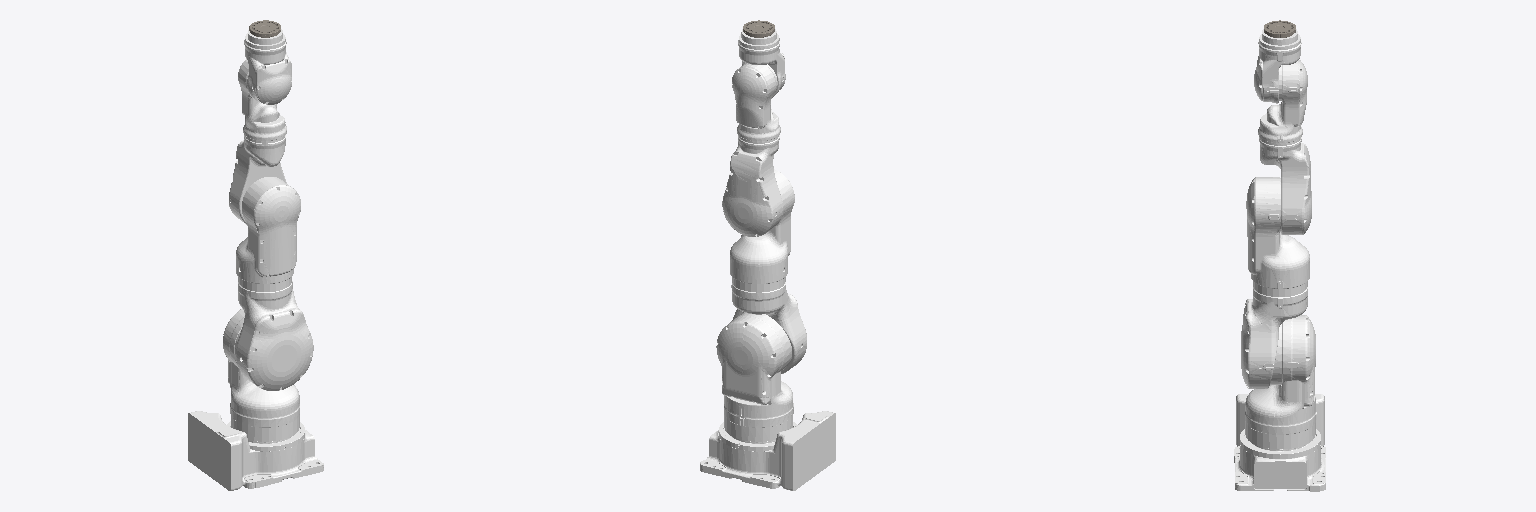
URDF robot description (sia20f):
<?xml version="1.0"?>
<robot name="sia20f">
  <link name="base_link">
    <inertial>
      <origin xyz="-0.05327 0.066798 0.00014271" rpy="0 0 0" />
      <mass value="9.5604" />
      <inertia
        ixx="0"
        ixy="0"
        ixz="0"
        iyy="0"
        iyz="0"
        izz="0" />
    </inertial>
    <visual>
      <origin xyz="0 0 0" rpy="0 0 0" />
      <geometry>
        <mesh filename="package://sia20f/meshes/base_link.STL" />
      </geometry>
      <material name="">
        <color rgba="1 1 1 1" />
      </material>
    </visual>
    <collision>
      <origin xyz="0 0 0" rpy="0 0 0" />
      <geometry>
        <mesh filename="package://sia20f/meshes/base_link.STL" />
      </geometry>
    </collision>
  </link>
  <link name="link_s">
    <inertial>
      <origin xyz="7.8023E-07 0.18911 -0.015611" rpy="0 0 0" />
      <mass value="11.757" />
      <inertia
        ixx="0"
        ixy="0"
        ixz="0"
        iyy="0"
        iyz="0"
        izz="0" />
    </inertial>
    <visual>
      <origin xyz="0 0 0" rpy="0 0 0" />
      <geometry>
        <mesh
          filename="package://sia20f/meshes/link_s.STL" />
      </geometry>
      <material name="">
        <color rgba="1 1 1 1" />
      </material>
    </visual>
    <collision>
      <origin xyz="0 0 0" rpy="0 0 0" />
      <geometry>
        <mesh filename="package://sia20f/meshes/link_s.STL" />
      </geometry>
    </collision>
  </link>
  <joint name="joint_s" type="revolute">
    <origin xyz="0 0 0.112" rpy="1.5708 0 0" />
    <parent link="base_link" />
    <child link="link_s" />
    <axis xyz="0 1 0" />
    <limit lower="-3.1415" upper="3.1415" effort="100" velocity="3.1415" />
    <calibration rising="0" falling="0" />
    <dynamics damping="0" friction="0" />
    <safety_controller soft_upper="0" soft_lower="0" k_position="0" k_velocity="0" />
  </joint>
  <link name="link_l">
    <inertial>
      <origin xyz="1.6057E-05 0.10201 0.041335" rpy="0 0 0" />
      <mass value="6.5581" />
      <inertia
        ixx="0"
        ixy="0"
        ixz="0"
        iyy="0"
        iyz="0"
        izz="0" />
    </inertial>
    <visual>
      <origin xyz="0 0 0" rpy="0 0 0" />
      <geometry>
        <mesh filename="package://sia20f/meshes/link_l.STL" />
      </geometry>
      <material name="">
        <color rgba="1 1 1 1" />
      </material>
    </visual>
    <collision>
      <origin xyz="0 0 0" rpy="0 0 0" />
      <geometry>
        <mesh filename="package://sia20f/meshes/link_l.STL" />
      </geometry>
    </collision>
  </link>
  <joint name="joint_l"
    type="revolute">
    <origin xyz="0 0.298 0" rpy="0 0 0" />
    <parent link="link_s" />
    <child link="link_l" />
    <axis xyz="0 0 1" />
    <limit lower="-1.9198" upper="1.19198" effort="100" velocity="3.1415" />
    <calibration rising="0" falling="0" />
    <dynamics damping="0" friction="0" />
    <safety_controller soft_upper="0" soft_lower="0" k_position="0" k_velocity="0" />
  </joint>
  <link
    name="link_e">
    <inertial>
      <origin xyz="3.9186E-05 0.16471 0.020774" rpy="0 0 0" />
      <mass value="6.2419" />
      <inertia
        ixx="0"
        ixy="0"
        ixz="0"
        iyy="0"
        iyz="0"
        izz="0" />
    </inertial>
    <visual>
      <origin xyz="0 0 0" rpy="0 0 0" />
      <geometry>
        <mesh filename="package://sia20f/meshes/link_e.STL" />
      </geometry>
      <material name="">
        <color rgba="1 1 1 1" />
      </material>
    </visual>
    <collision>
      <origin xyz="0 0 0" rpy="0 0 0" />
      <geometry>
        <mesh filename="package://sia20f/meshes/link_e.STL" />
      </geometry>
    </collision>
  </link>
  <joint
    name="joint_e"
    type="revolute">
    <origin xyz="0 0.247135547651375 0" rpy="0 0 0" />
    <parent link="link_l" />
    <child link="link_e" />
    <axis xyz="0 1 0" />
    <limit lower="-2.9670" upper="2.9670" effort="100" velocity="3.1415" />
    <calibration rising="0" falling="0" />
    <dynamics damping="0" friction="0" />
    <safety_controller soft_upper="0" soft_lower="0" k_position="0" k_velocity="0" />
  </joint>
  <link name="link_u">
    <inertial>
      <origin xyz="-7.9992E-07 0.08472 -0.032542" rpy="0 0 0" />
      <mass value="4.4611" />
      <inertia
        ixx="0"
        ixy="0"
        ixz="0"
        iyy="0"
        iyz="0"
        izz="0" />
    </inertial>
    <visual>
      <origin xyz="0 0 0" rpy="0 0 0" />
      <geometry>
        <mesh filename="package://sia20f/meshes/link_u.STL" />
      </geometry>
      <material name="">
        <color rgba="1 1 1 1" />
      </material>
    </visual>
    <collision>
      <origin xyz="0 0 0" rpy="0 0 0" />
      <geometry>
        <mesh filename="package://sia20f/meshes/link_u.STL" />
      </geometry>
    </collision>
  </link>
  <joint name="joint_u" type="revolute">
    <origin xyz="0 0.242864452348634 0" rpy="0 0 0" />
    <parent link="link_e" />
    <child link="link_u" />
    <axis xyz="0 0 1" />
    <limit lower="-2.9670" upper="2.9670" effort="100" velocity="3.1415" />
    <calibration rising="0" falling="0" />
    <dynamics damping="0" friction="0" />
    <safety_controller soft_upper="0" soft_lower="0" k_position="0" k_velocity="0" />
  </joint>
  <link
    name="link_r">
    <inertial>
      <origin xyz="4.8678E-06 0.12569 -0.02028" rpy="0 0 0" />
      <mass value="2.4173" />
      <inertia
        ixx="0"
        ixy="0"
        ixz="0"
        iyy="0"
        iyz="0"
        izz="0" />
    </inertial>
    <visual>
      <origin xyz="0 0 0" rpy="0 0 0" />
      <geometry>
        <mesh filename="package://sia20f/meshes/link_r.STL" />
      </geometry>
      <material name="">
        <color rgba="1 1 1 1" />
      </material>
    </visual>
    <collision>
      <origin xyz="0 0 0" rpy="0 0 0" />
      <geometry>
        <mesh filename="package://sia20f/meshes/link_r.STL" />
      </geometry>
    </collision>
  </link>
  <joint name="joint_r" type="revolute">
    <origin xyz="0 0.23899999999989 0" rpy="0 0 0" />
    <parent link="link_u" />
    <child link="link_r" />
    <axis xyz="0 1 0" />
    <limit lower="-3.1415" upper="3.1414" effort="100" velocity="3.1415" />
    <calibration rising="0" falling="0" />
    <dynamics damping="0" friction="0" />
    <safety_controller soft_upper="0" soft_lower="0" k_position="0" k_velocity="0" />
  </joint>
  <link name="link_b">
    <inertial>
      <origin xyz="5.1667E-06 0.069849 0.019496" rpy="0 0 0" />
      <mass value="2.0184" />
      <inertia
        ixx="0"
        ixy="0"
        ixz="0"
        iyy="0"
        iyz="0"
        izz="0" />
    </inertial>
    <visual>
      <origin xyz="0 0 0" rpy="0 0 0" />
      <geometry>
        <mesh filename="package://sia20f/meshes/link_b.STL" />
      </geometry>
      <material name="">
        <color rgba="1 1 1 1" />
      </material>
    </visual>
    <collision>
      <origin xyz="0 0 0" rpy="0 0 0" />
      <geometry>
        <mesh filename="package://sia20f/meshes/link_b.STL" />
      </geometry>
    </collision>
  </link>
  <joint name="joint_b" type="continuous">
    <origin xyz="0 0.181 0" rpy="0 0 0" />
    <parent link="link_r" />
    <child link="link_b" />
    <axis xyz="0 0 1" />
    <limit lower="-1.9198" upper="1.9198" effort="100" velocity="3.4" />
    <calibration rising="0" falling="0" />
    <dynamics damping="0" friction="0" />
    <safety_controller soft_upper="0" soft_lower="0" k_position="0" k_velocity="0" />
  </joint>
  <link name="link_t">
    <inertial>
      <origin xyz="-0.00019051 0.0087466 -2.475E-05" rpy="0 0 0" />
      <mass value="0.095976" />
      <inertia
        ixx="0"
        ixy="0"
        ixz="0"
        iyy="0"
        iyz="0"
        izz="0" />
    </inertial>
    <visual>
      <origin xyz="0 0 0" rpy="0 0 0" />
      <geometry>
        <mesh filename="package://sia20f/meshes/link_t.STL" />
      </geometry>
      <material name="">
        <color rgba="0.64706 0.61961 0.58824 1" />
      </material>
    </visual>
    <collision>
      <origin xyz="0 0 0" rpy="0 0 0" />
      <geometry>
        <mesh filename="package://sia20f/meshes/link_t.STL" />
      </geometry>
    </collision>
  </link>
  <joint name="joint_t" type="revolute">
    <origin xyz="0 0.164069662461231 0.0015" rpy="0 0 0" />
    <parent link="link_b" />
    <child link="link_t" />
    <axis xyz="0 1 0" />
    <limit lower="-3.14159" upper="3.14159" effort="100" velocity="7" />
    <calibration rising="0" falling="0" />
    <dynamics damping="0" friction="0" />
    <safety_controller soft_upper="0" soft_lower="0" k_position="0" k_velocity="0" />
  </joint>
</robot>

--- What the picture shows (computed from the rendered views, not written in the file) ---
3 views of the same robot in one strip: view 1: azimuth 30°, elevation 25°; view 2: azimuth 150°, elevation 25°; view 3: azimuth 270°, elevation 25° (orthographic).
Robot: sia20f — 8 links, 7 joints (6 revolute, 1 continuous); root link base_link; default pose: all joints at 0.
Links seen in each view (by area): view 1: link_l, base_link, link_e, link_s, link_b, link_u, link_r; view 2: link_s, base_link, link_u, link_e, link_r, link_l, link_b; view 3: link_s, base_link, link_e, link_l, link_u, link_r, link_b.
Link boxes in pixels (<box>): link_l: <box>236,277,313,390</box>; base_link: <box>188,411,323,490</box>; link_e: <box>236,177,300,283</box>; link_s: <box>223,308,299,441</box>; link_b: <box>244,29,291,104</box>; link_u: <box>229,135,286,224</box>; link_r: <box>238,59,286,140</box>; link_s: <box>716,313,793,441</box>; base_link: <box>700,411,835,490</box>; link_u: <box>722,135,782,236</box>; link_e: <box>730,169,794,283</box>; link_r: <box>732,63,780,140</box>; link_l: <box>731,277,806,373</box>; link_b: <box>738,29,785,97</box>; link_s: <box>1245,315,1316,448</box>; base_link: <box>1234,394,1325,491</box>; link_e: <box>1246,177,1309,288</box>; link_l: <box>1241,281,1307,388</box>; link_u: <box>1259,137,1311,234</box>; link_r: <box>1258,60,1307,142</box>; link_b: <box>1254,29,1301,103</box>.
Size in the robot's own frame: 0.343 by 0.283 by 1.5 metres.
Meshes: 8 distinct files referenced, 8 mesh visuals loaded (8 binary STL).